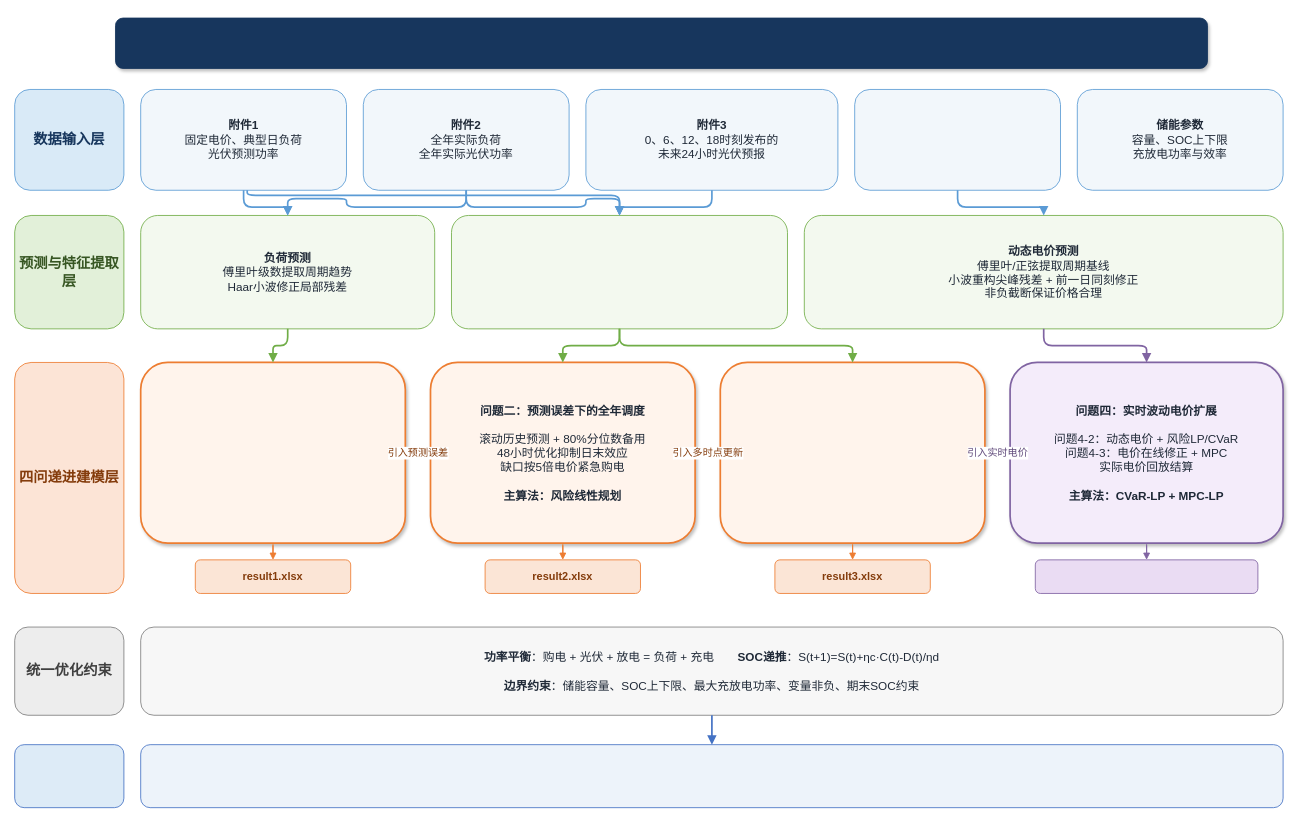
This 1304x822 diagram has some shape labels left out. The shapes that lost their labels are listed below. From the top down, each one's centre as x and y in pixels, then its label:
At pixel 662 44: "C题：微电网外部电网购电策略总体建模架构".
At pixel 957 139: "附件4 全年每10分钟 实时波动电价".
At pixel 619 272: "光伏预测 截断幂正弦函数描述日照曲线 多时点预报线性插值与在线更新".
At pixel 273 453: "问题一：确定性日前调度 典型日负荷与光伏拟合 每天0:00制定计划 主算法：线性规划 LP 目标：最小化单日购电费".
At pixel 853 453: "问题三：多时点预报滚动调整 0、6、12、18时刻更新光伏预报 优化增加/减少购电量 比较不同更新策略 主算法：MPC-LP".
At pixel 1146 576: "result4-2.xlsx / result4-3.xlsx".
At pixel 69 776: "回放评价层".
At pixel 711 776: "全年滚动回放：使用实际负荷、实际光伏和实际电价结算 ｜ 评价指标：总购电费、紧急购电量、调整量、SOC可行性、预测误差".
